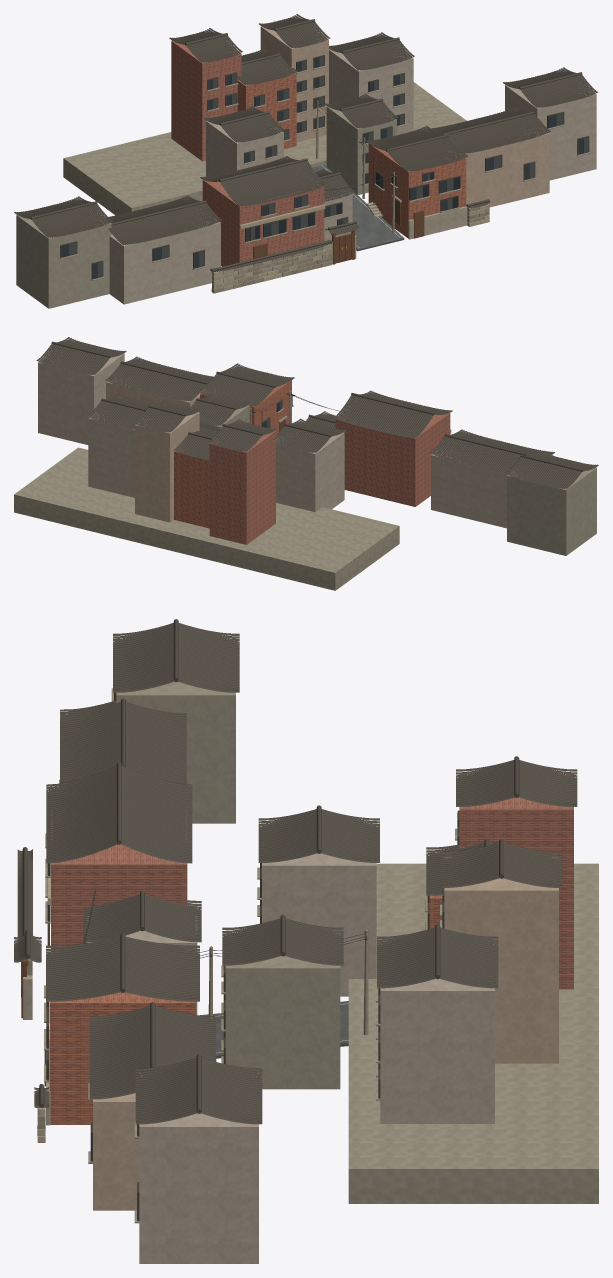
File: street.glb
3 renders of one model, top to bottom at view 1: azimuth 30°, elevation 25°; view 2: azimuth 150°, elevation 25°; view 3: azimuth 270°, elevation 25°, orthographic. The views are drawn at different scales.
Parts seen in each view (by area): view 1: FarStreet | Weathered charcoal roof tile, FarStreet | Street facade 1, FarStreet | Street limestone 2, Neighbouring house.001, Uphill residence.004, Residential brick villa, Neighbouring house.002, Corner villa brick, FarStreet | Patinated window metal, Uphill residence.001, FarStreet | Deep street glass 1, Uphill residence.003 (+9 smaller); view 2: FarStreet | Weathered charcoal roof tile, FarStreet | Street limestone 2, FarStreet | Street facade 1, Residential brick villa, Uphill residence.004, Neighbouring house.001, Uphill residence.003, Uphill residence.002, Corner villa brick, Neighbouring house.002, Uphill residence.001; view 3: FarStreet | Weathered charcoal roof tile, FarStreet | Street facade 1, FarStreet | Street limestone 2, Uphill residence.001, Uphill residence.003, Neighbouring house.001, Residential brick villa, Uphill residence.004, Corner villa brick, Neighbouring house.002, FarStreet | Patinated window metal, FarStreet | Street limestone 0.
Boxes of the visible parts, <box> form: FarStreet | Weathered charcoal roof tile: <box>14,14,598,272</box>; FarStreet | Street facade 1: <box>109,49,596,304</box>; FarStreet | Street limestone 2: <box>59,65,590,288</box>; Neighbouring house.001: <box>16,200,111,308</box>; Uphill residence.004: <box>171,32,241,161</box>; Residential brick villa: <box>202,166,324,266</box>; Neighbouring house.002: <box>463,110,549,207</box>; Corner villa brick: <box>368,130,466,237</box>; FarStreet | Patinated window metal: <box>60,55,589,279</box>; Uphill residence.001: <box>326,98,396,194</box>; FarStreet | Deep street glass 1: <box>69,56,588,277</box>; Uphill residence.003: <box>260,17,328,142</box>; FarStreet | Weathered charcoal roof tile: <box>36,337,598,488</box>; FarStreet | Street limestone 2: <box>14,405,399,590</box>; FarStreet | Street facade 1: <box>38,340,553,528</box>; Residential brick villa: <box>335,399,450,506</box>; Uphill residence.004: <box>209,431,275,544</box>; Neighbouring house.001: <box>507,467,596,555</box>; Uphill residence.003: <box>135,404,199,522</box>; Uphill residence.002: <box>174,448,209,528</box>; Corner villa brick: <box>200,367,291,437</box>; Neighbouring house.002: <box>106,377,204,408</box>; Uphill residence.001: <box>199,405,249,432</box>; FarStreet | Weathered charcoal roof tile: <box>14,619,577,1124</box>; FarStreet | Street facade 1: <box>87,825,494,1263</box>; FarStreet | Street limestone 2: <box>21,688,598,1223</box>; Uphill residence.001: <box>225,933,340,1089</box>; Uphill residence.003: <box>444,857,558,1063</box>; Neighbouring house.001: <box>116,638,235,823</box>; Residential brick villa: <box>51,789,187,950</box>; Uphill residence.004: <box>459,774,573,989</box>; Corner villa brick: <box>49,953,195,1124</box>; Neighbouring house.002: <box>93,1093,139,1210</box>; FarStreet | Patinated window metal: <box>46,692,459,1221</box>; FarStreet | Street limestone 0: <box>27,929,368,1034</box>.
Size of the model in its own units: 42.45 by 9.3 by 21.03.
20 materials, 13 textured.
